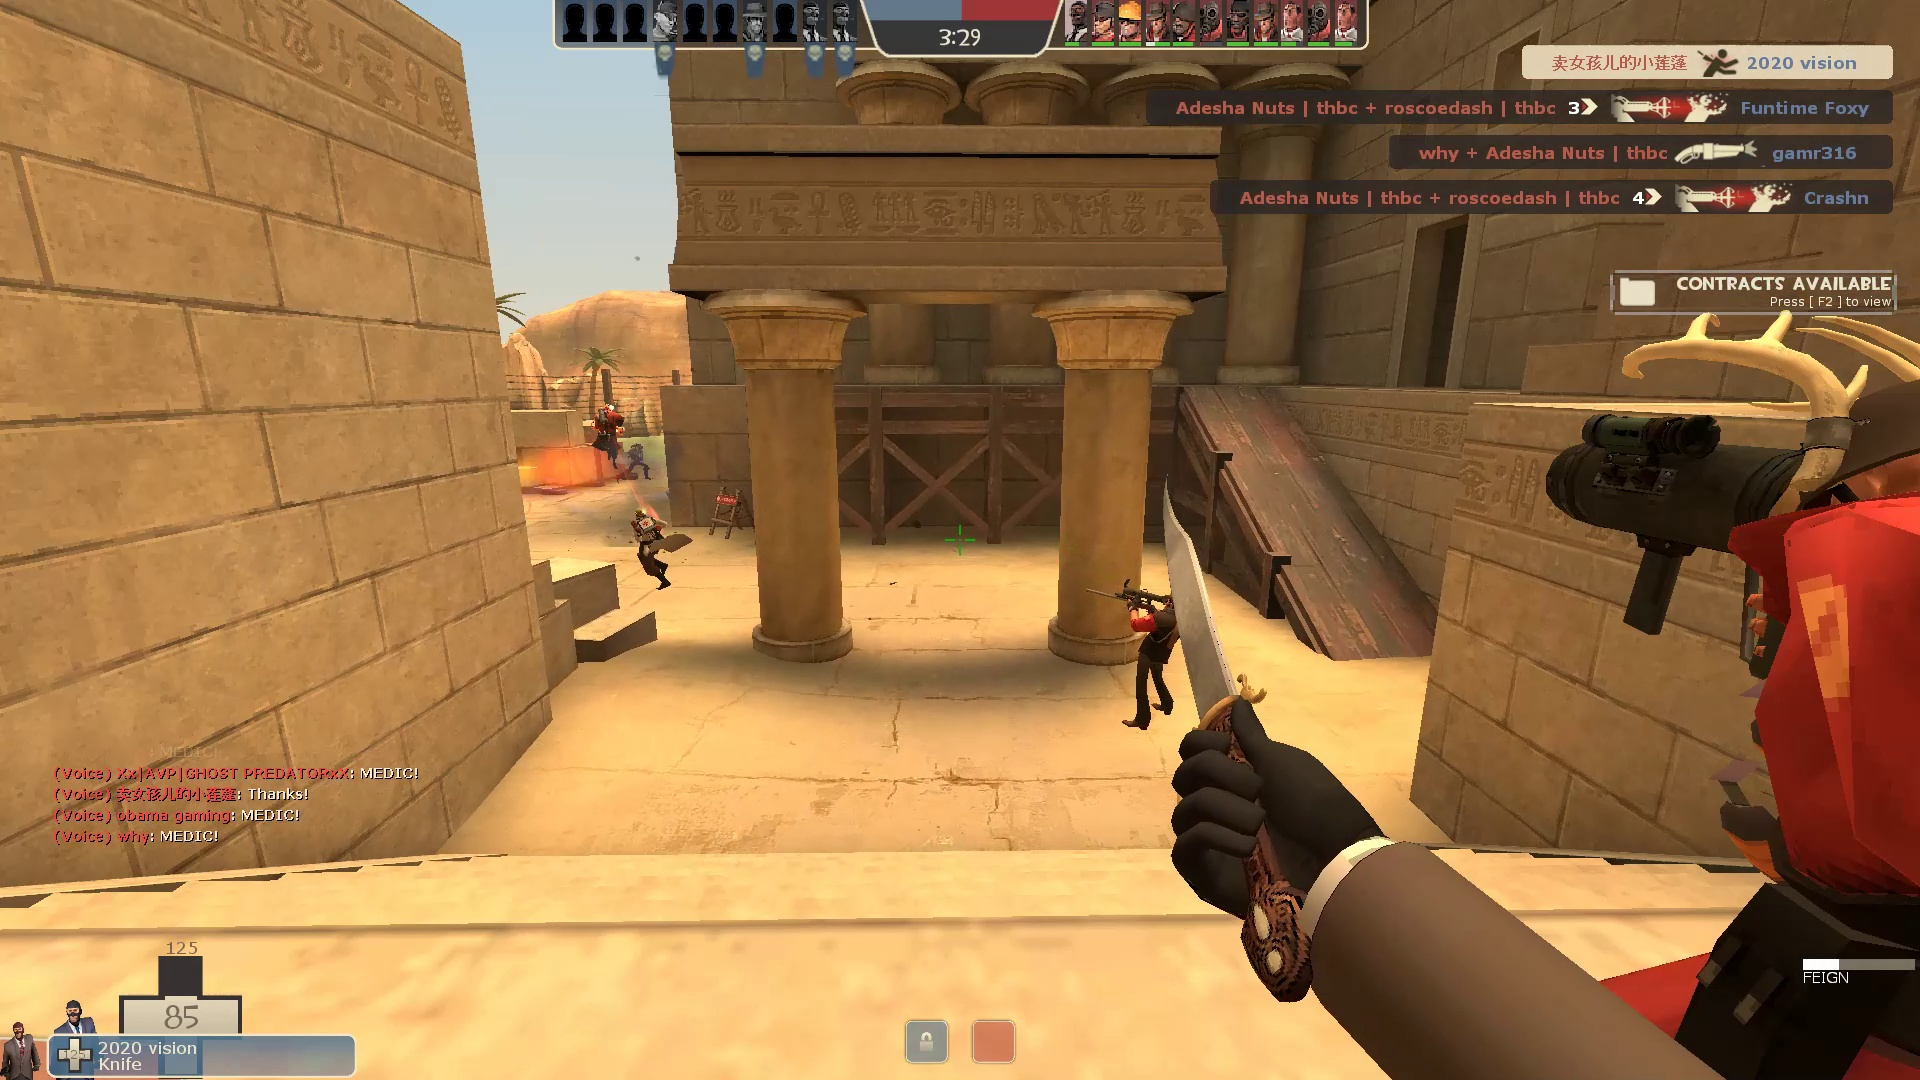red_medic: (625, 504, 694, 593), (621, 438, 655, 489)
red_pyro: (585, 400, 629, 465)
red_sniper: (1084, 575, 1204, 733)
red_soldier: (1542, 298, 1920, 1079)
